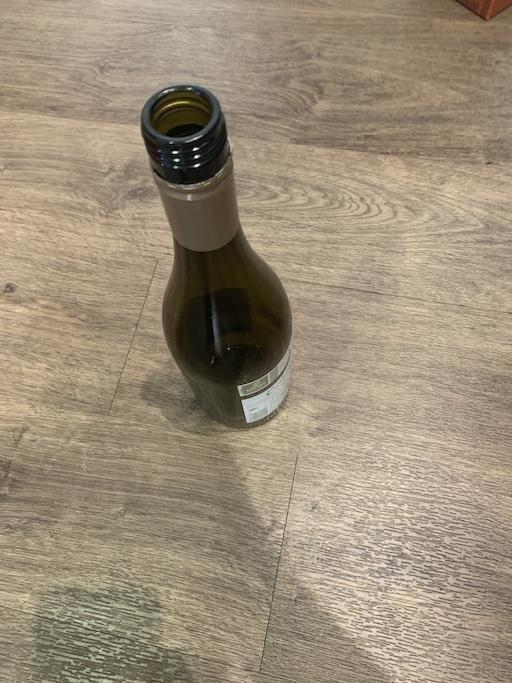bottle-glass: (139, 82, 295, 431)
